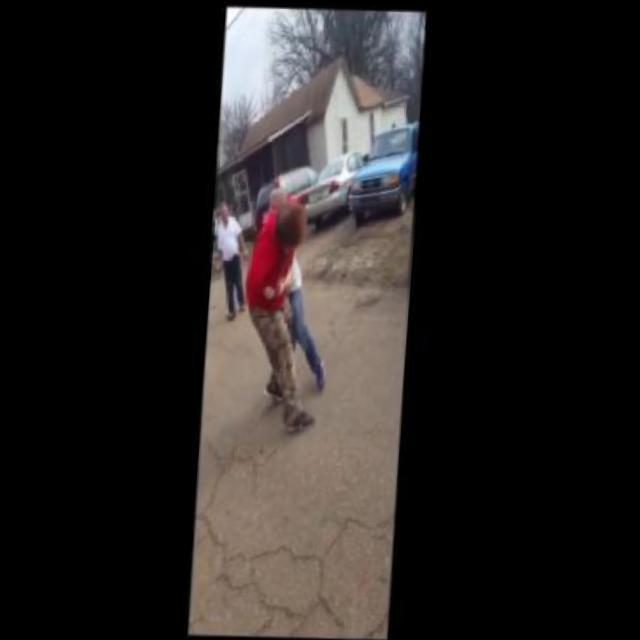fight: (234, 185, 340, 433)
